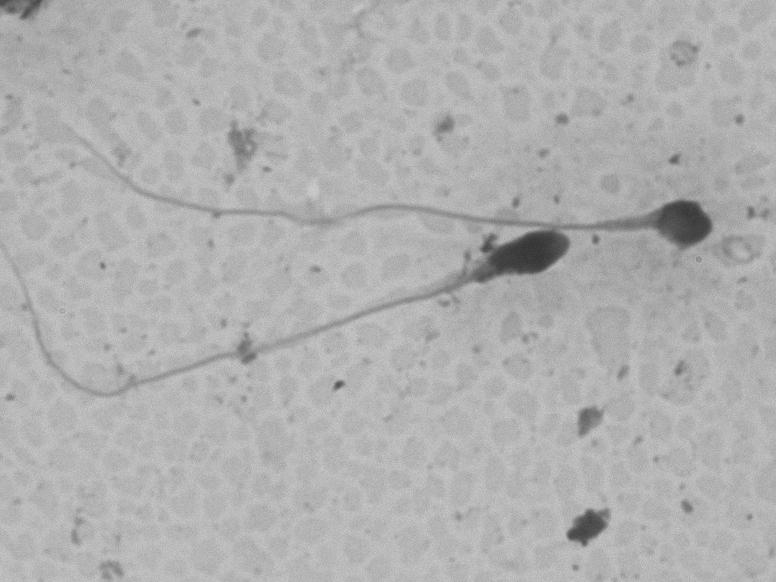Abnormal: (8, 226, 582, 411), (60, 111, 731, 261)
